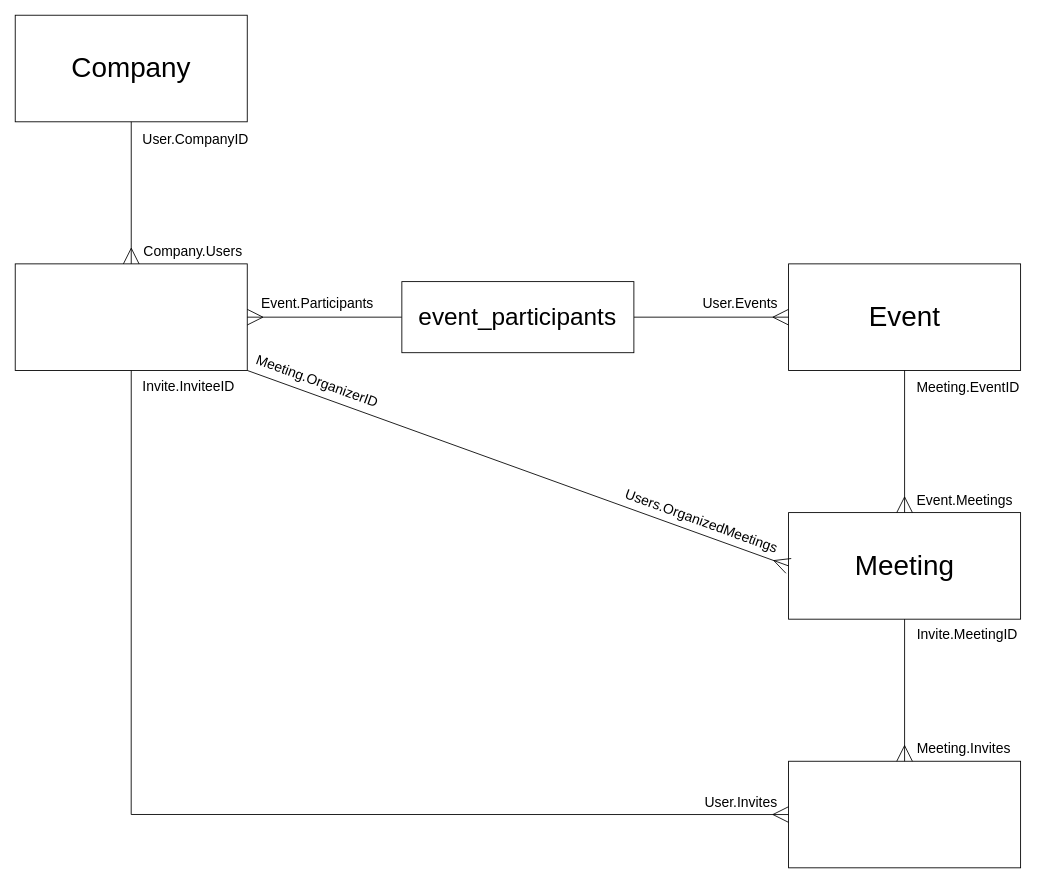
The diagram is 1044 pixels wide and 883 high, and some of its shapes have lost their labels. Each missing label, with the box of its shape:
Invite: (788, 760, 1021, 868)
User: (14, 263, 247, 370)
